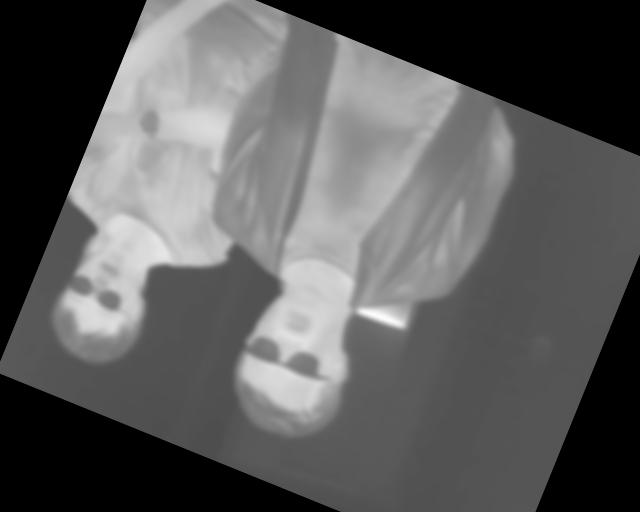face: (213, 274, 377, 455), (37, 236, 166, 377)
